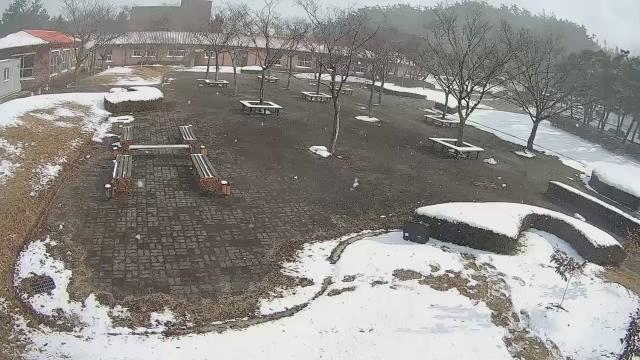bag: (404, 218, 430, 244)
